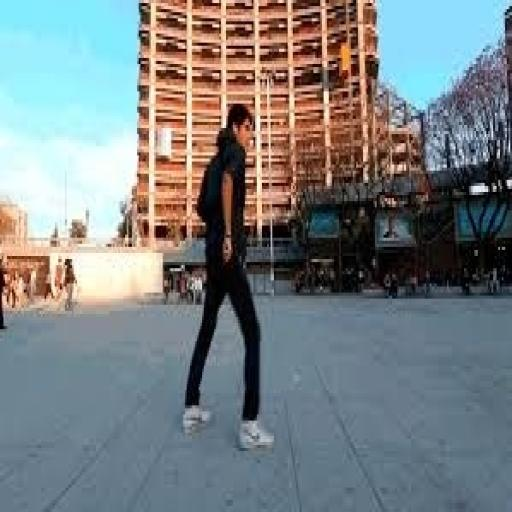dancing: (180, 98, 277, 454)
